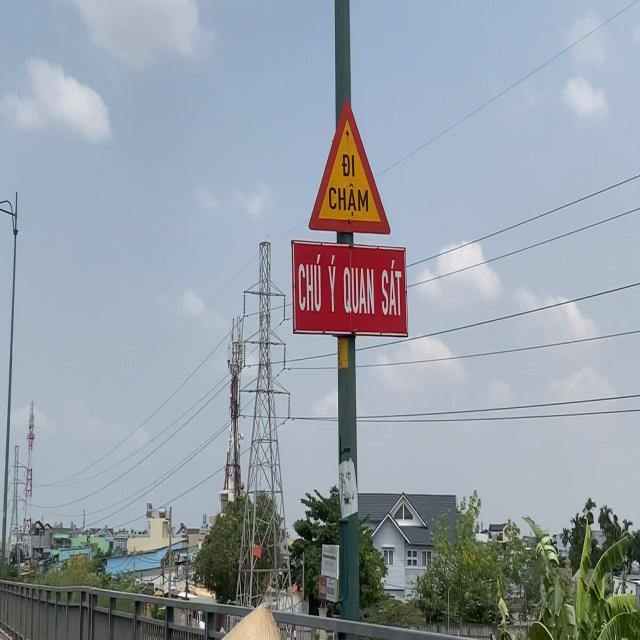Nguy hiem: (305, 94, 393, 239)
